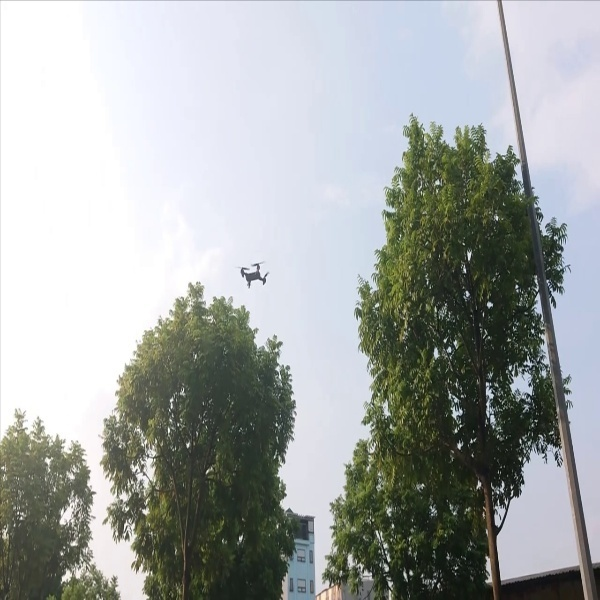drone: (233, 258, 274, 292)
